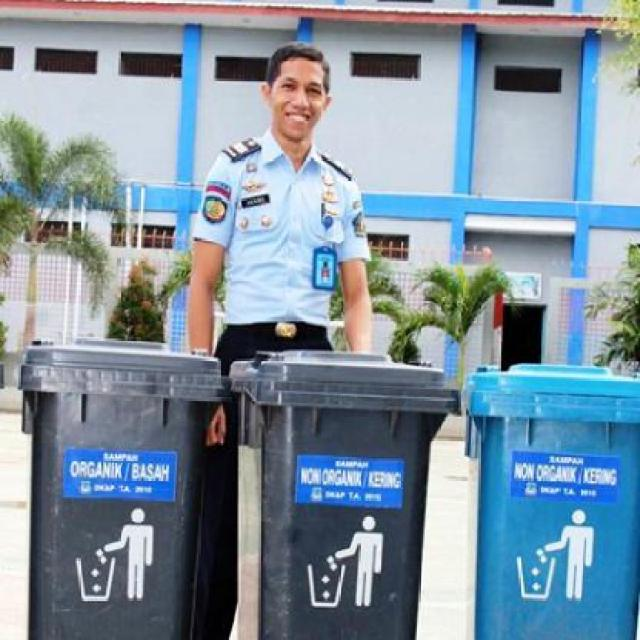garbage container: (7, 324, 235, 639), (231, 344, 466, 638), (457, 358, 638, 638)
